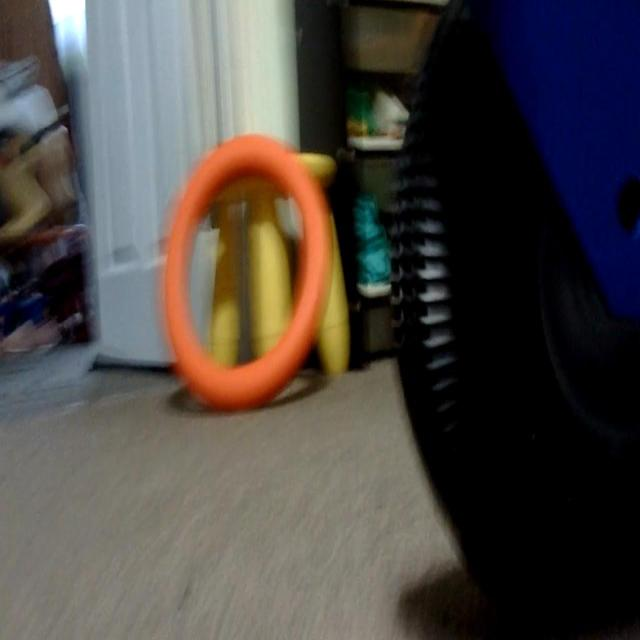note: (162, 122, 330, 418)
